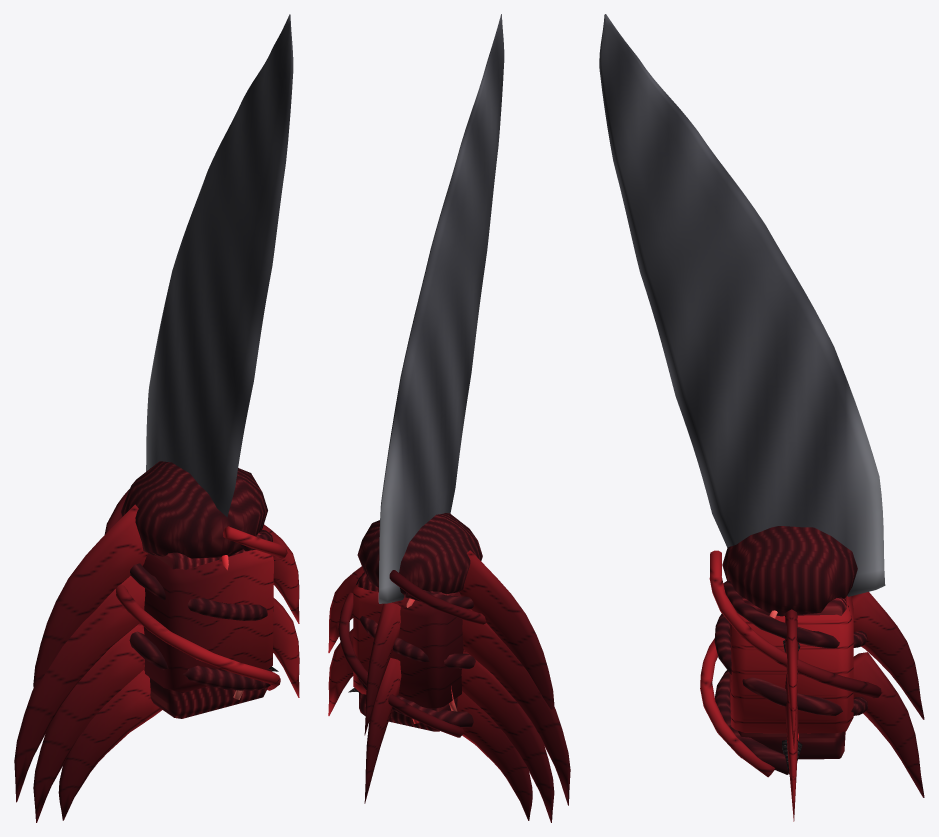
The model's file is parasite_reaper_edge.obj.
3 renders of one model, left to right at view 1: azimuth 30°, elevation 25°; view 2: azimuth 150°, elevation 25°; view 3: azimuth 270°, elevation 25°, orthographic. The views are drawn at different scales.
Parts seen in each view (by area): view 1: reaper_edge; view 2: reaper_edge; view 3: reaper_edge.
Boxes of the visible parts, bbox=[...] form: reaper_edge: bbox=[14, 14, 299, 822]; reaper_edge: bbox=[328, 14, 570, 822]; reaper_edge: bbox=[599, 14, 924, 821].
Size of the model in its own units: 0.8814 by 2.5 by 0.8962.
